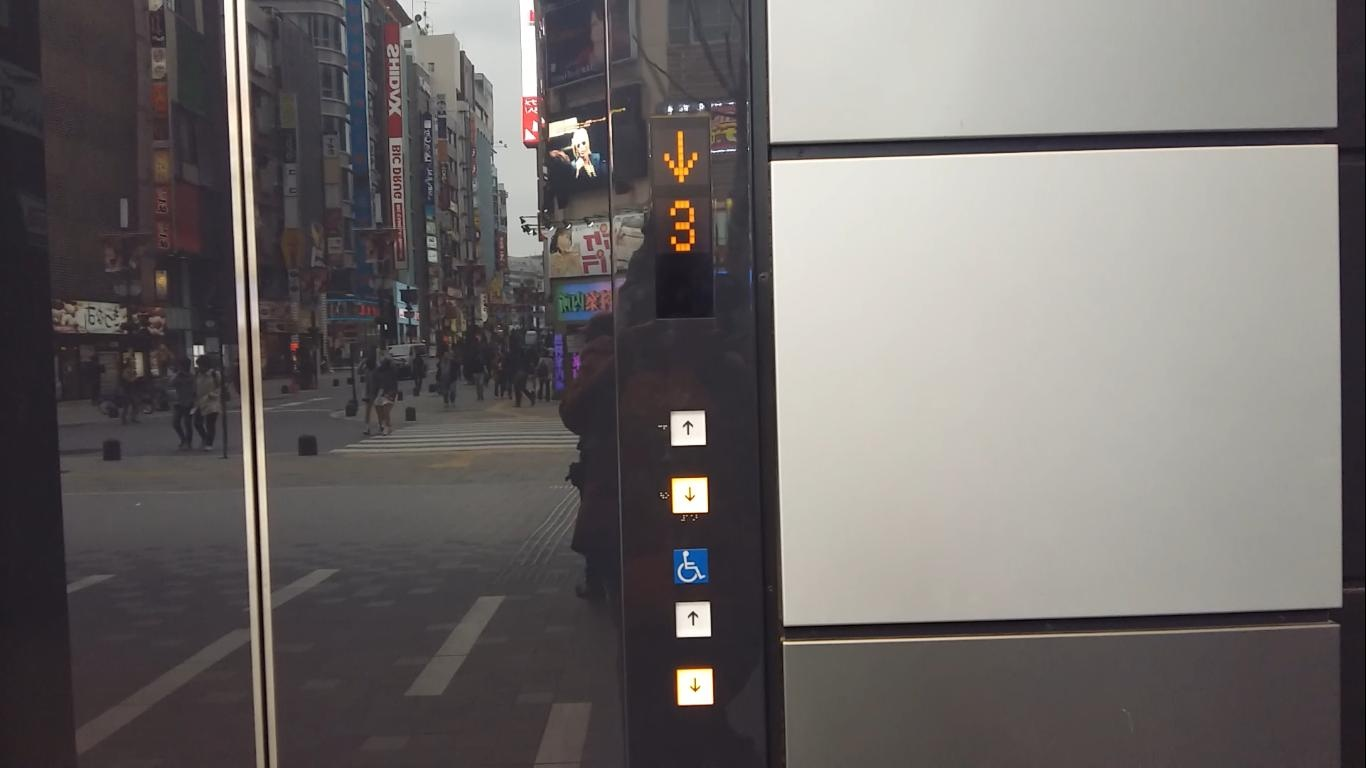CH: (669, 546, 710, 587)
down: (674, 666, 715, 707), (669, 475, 710, 516)
led: (650, 115, 715, 319)
up: (672, 599, 713, 640), (667, 408, 708, 449)
